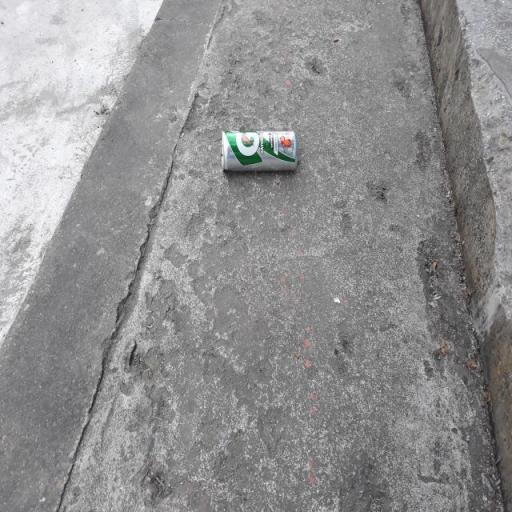metal: (208, 116, 340, 233)
